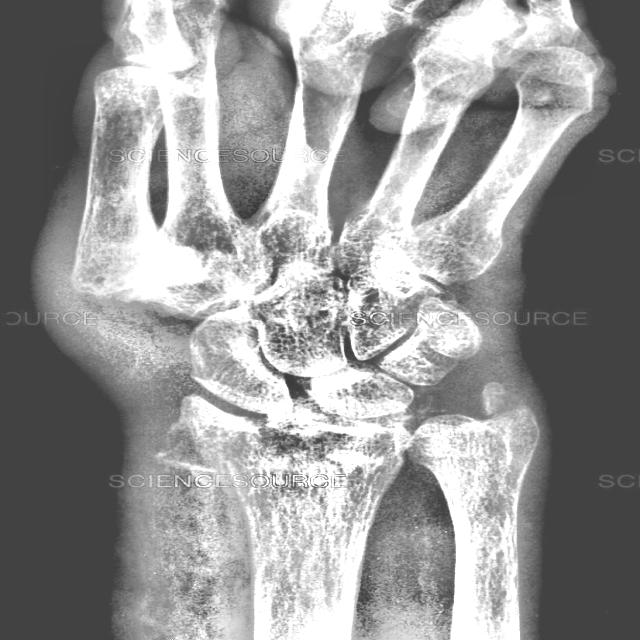fracture: (60, 239, 208, 310), (165, 404, 287, 487)
